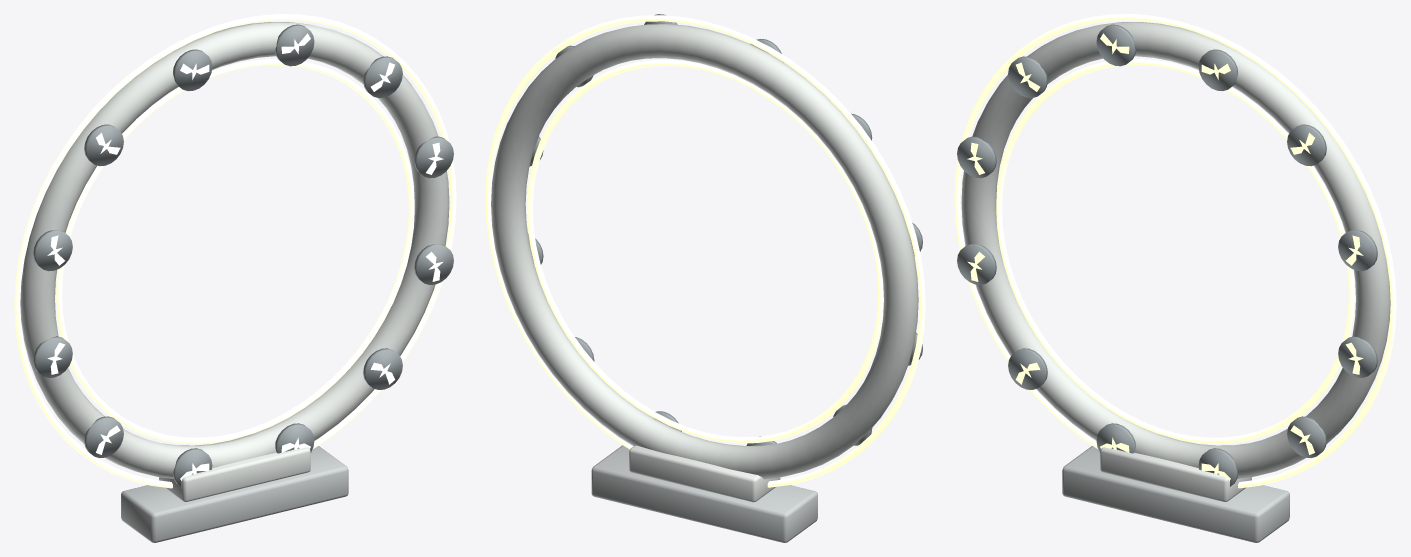
The model's file is ring_gate.glb.
3 renders of one model, left to right at view 1: azimuth 30°, elevation 25°; view 2: azimuth 150°, elevation 25°; view 3: azimuth 330°, elevation 25°, orthographic.
Parts seen in each view (by area): view 1: Ring, Plinth, RingOut, RingIn, Plinth2, Plate10, Plate4, Plate3, Plate5, Plate11, Plate1, Plate6 (+5 smaller); view 2: Ring, Plinth, RingOut, RingIn, Plinth2; view 3: Ring, Plinth, RingOut, RingIn, Plinth2, Plate7, Plate1, Plate2, Plate0, Plate6, Plate4, Plate11 (+5 smaller).
Boxes of the visible parts, bbox=[...] form: Ring: bbox=[20, 22, 449, 478]; Plinth: bbox=[121, 446, 348, 542]; RingOut: bbox=[14, 14, 456, 488]; RingIn: bbox=[56, 59, 414, 443]; Plinth2: bbox=[159, 447, 310, 501]; Plate10: bbox=[363, 348, 402, 389]; Plate4: bbox=[84, 124, 123, 166]; Plate3: bbox=[173, 49, 212, 91]; Plate5: bbox=[33, 230, 72, 271]; Plate11: bbox=[414, 244, 453, 284]; Plate1: bbox=[363, 56, 402, 97]; Plate6: bbox=[33, 336, 72, 377]; Ring: bbox=[491, 24, 918, 479]; Plinth: bbox=[591, 445, 817, 542]; RingOut: bbox=[485, 15, 925, 487]; RingIn: bbox=[527, 60, 883, 443]; Plinth2: bbox=[629, 445, 780, 502]; Ring: bbox=[961, 22, 1390, 478]; Plinth: bbox=[1062, 446, 1289, 542]; RingOut: bbox=[954, 14, 1396, 488]; RingIn: bbox=[996, 59, 1354, 443]; Plinth2: bbox=[1100, 447, 1251, 501]; Plate7: bbox=[1008, 348, 1047, 389]; Plate1: bbox=[1287, 124, 1326, 166]; Plate2: bbox=[1198, 49, 1237, 91]; Plate0: bbox=[1338, 230, 1377, 271]; Plate6: bbox=[957, 244, 996, 284]; Plate4: bbox=[1008, 56, 1047, 97]; Plate11: bbox=[1338, 336, 1377, 377].
Bounding box in the file's own units: 7.62 × 8.06 × 1.
